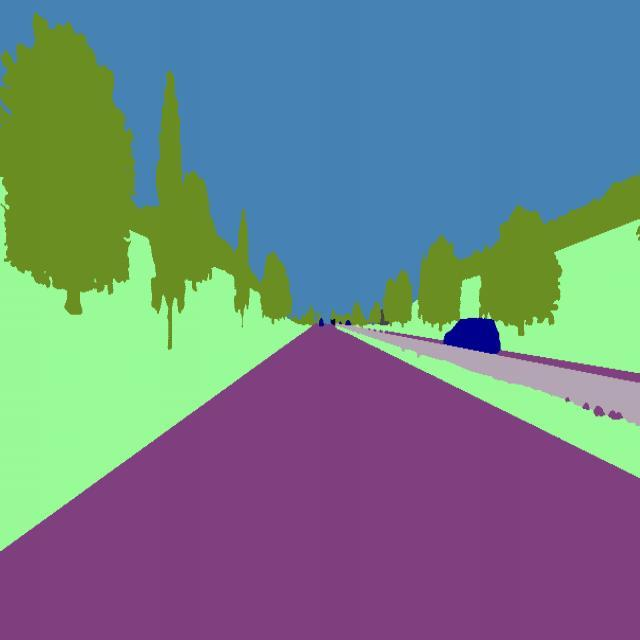safe: (437, 310, 505, 363), (316, 315, 327, 333)
